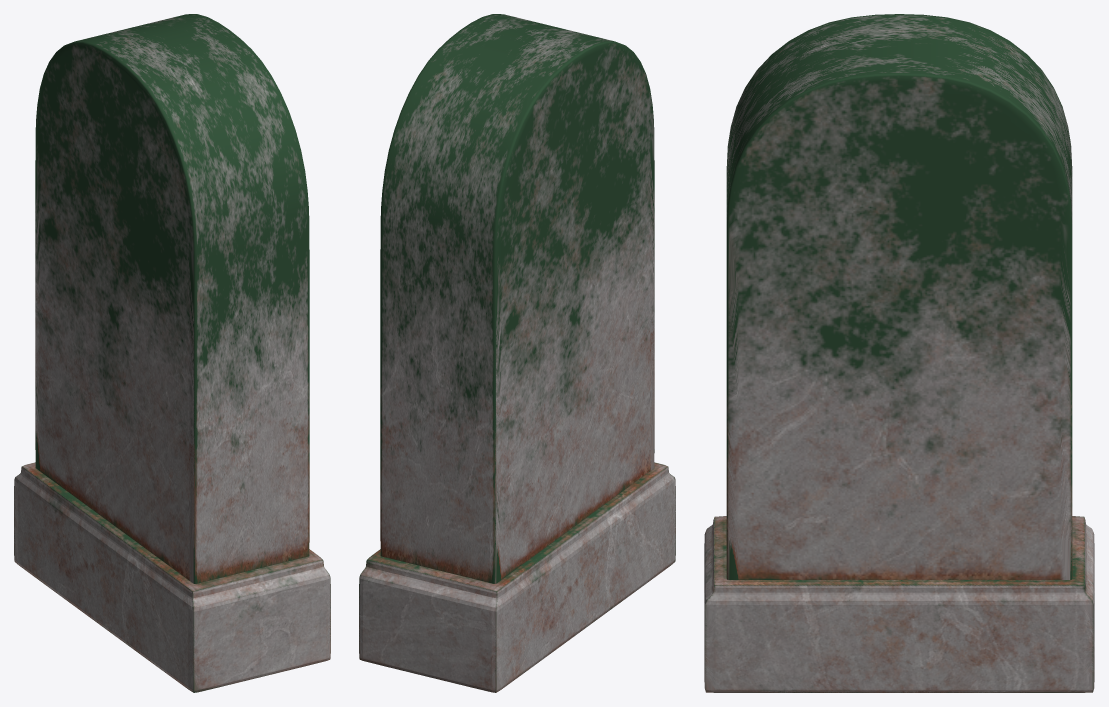
The model's file is Grave3.fbx.
3 views of the same model, side by side, from view 1: azimuth 30°, elevation 25°; view 2: azimuth 150°, elevation 25°; view 3: azimuth 270°, elevation 25° (orthographic). The views are drawn at different scales.
Parts seen in each view (by area): view 1: Cube.004; view 2: Cube.004; view 3: Cube.004.
Boxes of the visible parts, x1,y1,x2,y2 form: Cube.004: (14, 14, 330, 692); Cube.004: (359, 14, 675, 692); Cube.004: (704, 14, 1094, 692).
Bounding box in the file's own units: 100 × 392 × 226.
